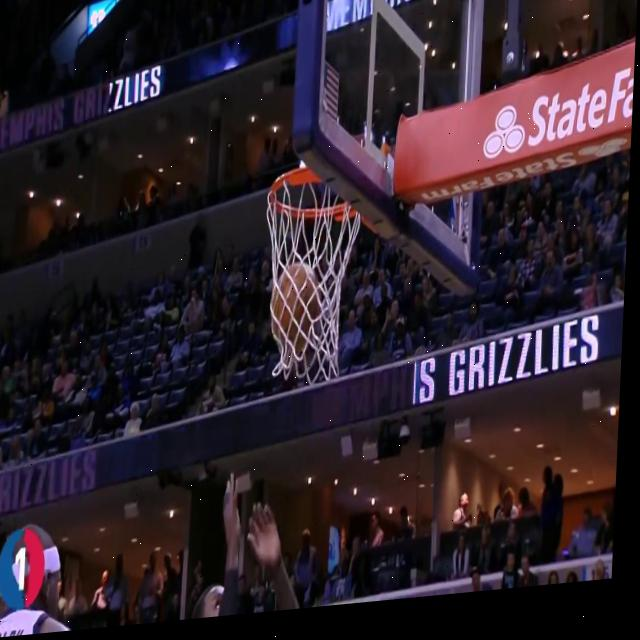basketball: (265, 252, 325, 362)
hoop: (256, 153, 367, 397), (257, 153, 367, 397)
